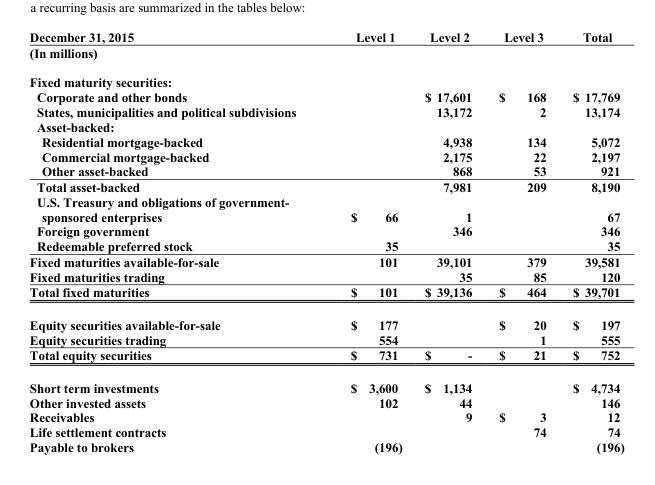table: (28, 29, 623, 454)
table column: (28, 29, 322, 454), (322, 29, 412, 454), (484, 29, 558, 454), (412, 29, 484, 454), (558, 29, 623, 454)
table column header: (28, 29, 623, 44)
table projected row header: (28, 44, 623, 67), (28, 67, 623, 89), (28, 119, 623, 133)
table row: (28, 193, 623, 223), (28, 284, 623, 308), (28, 347, 623, 371), (28, 44, 623, 67), (28, 308, 623, 331), (28, 371, 623, 394), (28, 67, 623, 89), (28, 268, 623, 284), (28, 331, 623, 347), (28, 29, 623, 44), (28, 89, 623, 104), (28, 104, 623, 119), (28, 133, 623, 148), (28, 148, 623, 163), (28, 163, 623, 178), (28, 178, 623, 193), (28, 223, 623, 238), (28, 238, 623, 253), (28, 253, 623, 268), (28, 394, 623, 409), (28, 409, 623, 424), (28, 424, 623, 439), (28, 439, 623, 454), (28, 119, 623, 133)
